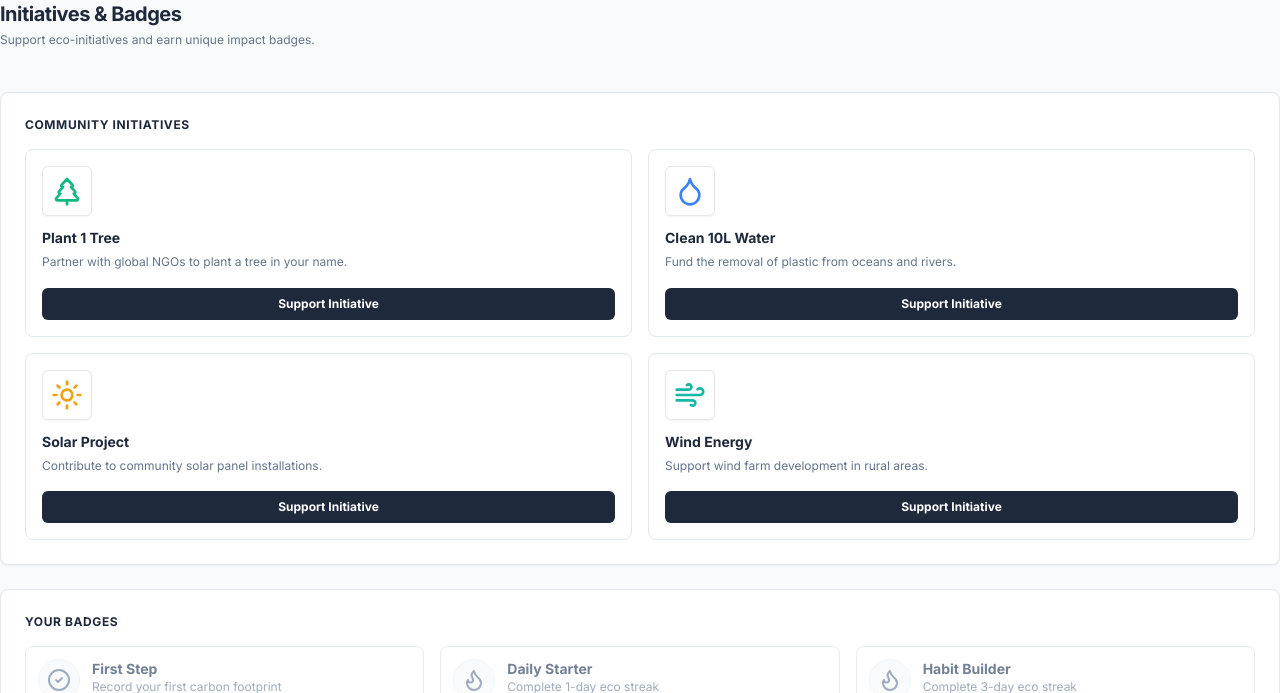
Achievement Page › shows confetti message immediately after clicking Support Initiative
The width and height of the screenshot is (1280, 693).
Click the button "Support Initiative" below "Plant 1 Tree" at (328, 304), box x1=42 y1=288 x2=615 y2=320
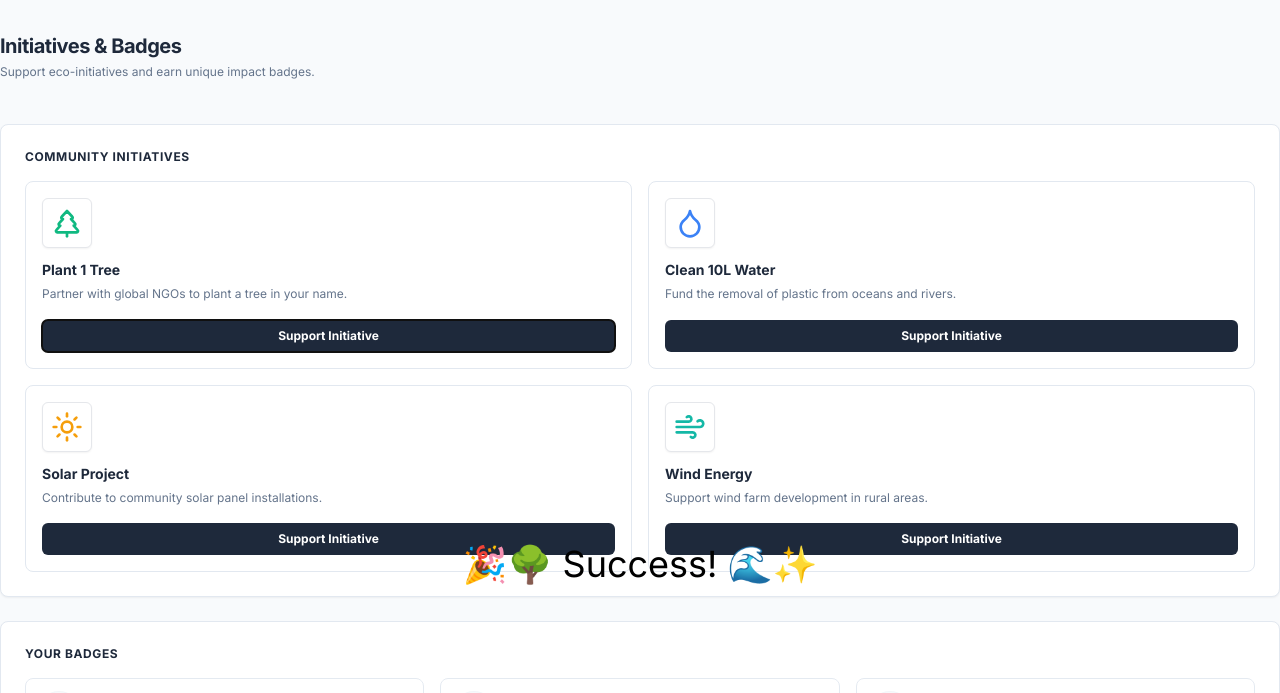
Result: the text "🎉🌳 Success! 🌊✨" is shown at x1=463 y1=544 x2=817 y2=584
